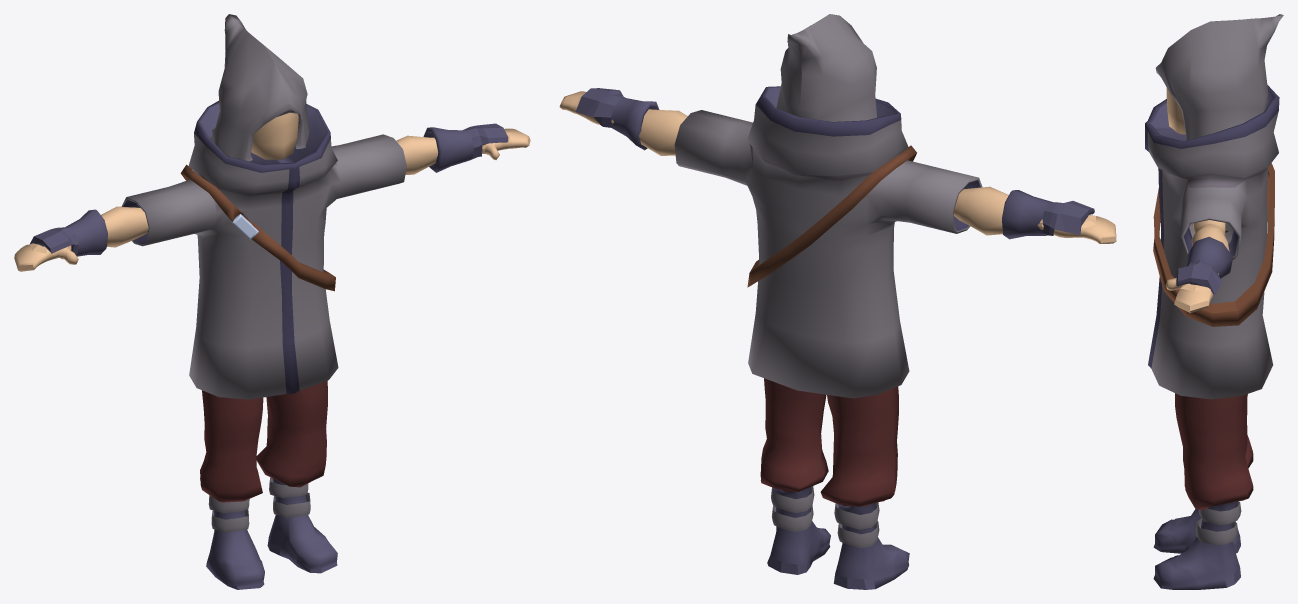
Rendered from Mage.fbx.
3 views of the same model, side by side, from view 1: azimuth 30°, elevation 25°; view 2: azimuth 150°, elevation 25°; view 3: azimuth 270°, elevation 25° (orthographic). The views are drawn at different scales.
Visible parts, largest first — view 1: Coat, Pants, Hood, Boots, Gloves, Arms, Bootstrap, Hands, Head; view 2: Coat, Pants, Hood, Boots, Gloves, Arms, Bootstrap, Hands; view 3: Coat, Hood, Pants, Boots, Gloves, Bootstrap, Hands, Arms, Head.
Boxes of the visible parts, x1=… form: Coat: x1=121, y1=101, x2=406, y2=399; Pants: x1=200, y1=380, x2=327, y2=502; Hood: x1=210, y1=14, x2=309, y2=161; Boots: x1=206, y1=478, x2=337, y2=589; Gloves: x1=30, y1=123, x2=508, y2=256; Arms: x1=101, y1=135, x2=438, y2=247; Bootstrap: x1=208, y1=477, x2=310, y2=532; Hands: x1=14, y1=128, x2=530, y2=271; Head: x1=251, y1=112, x2=298, y2=159; Coat: x1=674, y1=86, x2=982, y2=398; Pants: x1=760, y1=378, x2=898, y2=506; Hood: x1=776, y1=14, x2=876, y2=121; Boots: x1=767, y1=487, x2=909, y2=589; Gloves: x1=575, y1=88, x2=1094, y2=239; Arms: x1=639, y1=109, x2=1008, y2=235; Bootstrap: x1=771, y1=486, x2=879, y2=548; Hands: x1=559, y1=91, x2=1116, y2=243; Coat: x1=1145, y1=85, x2=1279, y2=399; Hood: x1=1155, y1=14, x2=1283, y2=140; Pants: x1=1175, y1=230, x2=1253, y2=510; Boots: x1=1153, y1=501, x2=1240, y2=589; Gloves: x1=1176, y1=236, x2=1232, y2=294; Bootstrap: x1=1195, y1=501, x2=1241, y2=545; Hands: x1=1165, y1=273, x2=1218, y2=313; Arms: x1=1191, y1=220, x2=1229, y2=251; Head: x1=1166, y1=88, x2=1185, y2=134.
Size of the model in its own units: 698 by 679 by 156.
